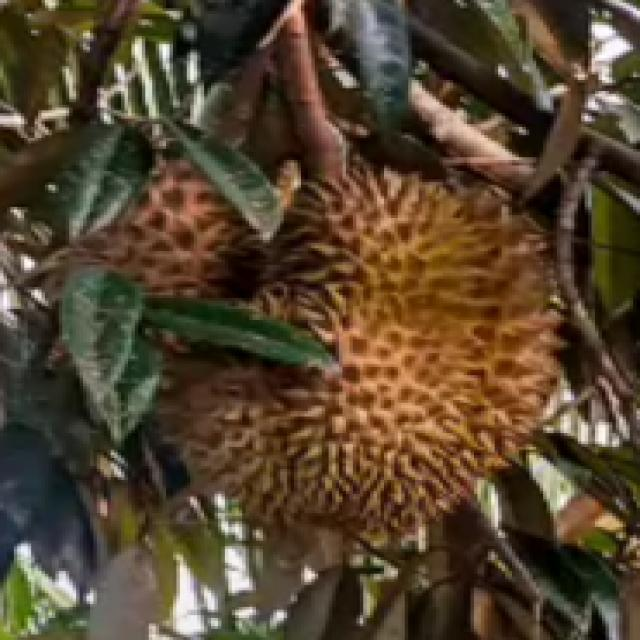mature: (141, 162, 563, 552)
